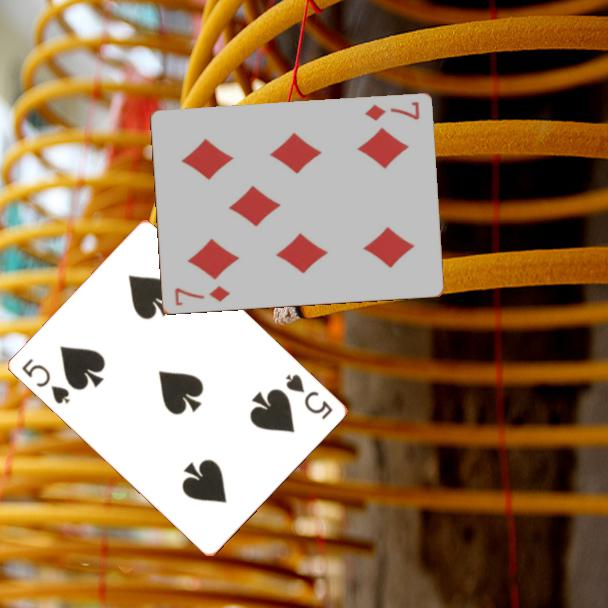d07: (171, 283, 232, 309), (361, 99, 422, 124)
s05: (18, 355, 72, 407), (281, 370, 335, 422)
